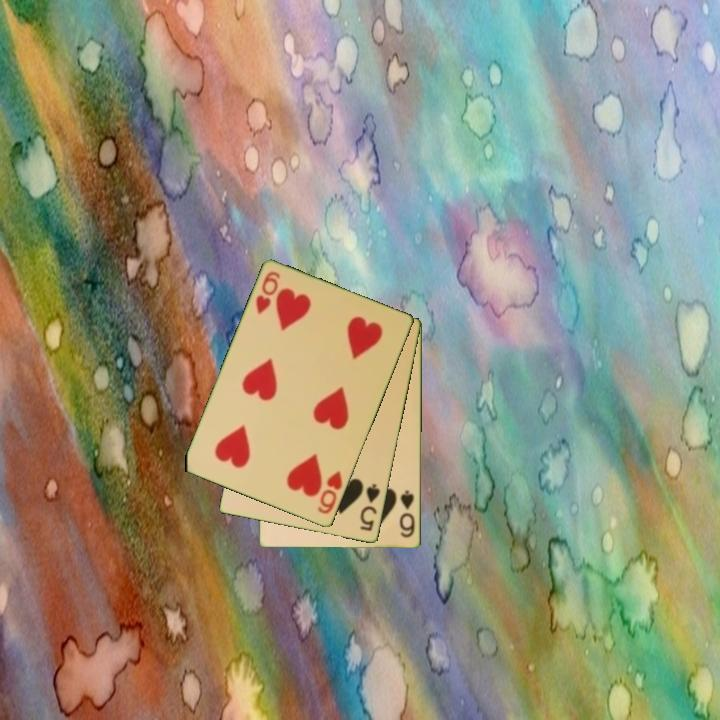5s: (357, 481, 383, 534)
6h: (252, 268, 284, 317), (314, 467, 345, 517)
6s: (396, 487, 418, 541)
